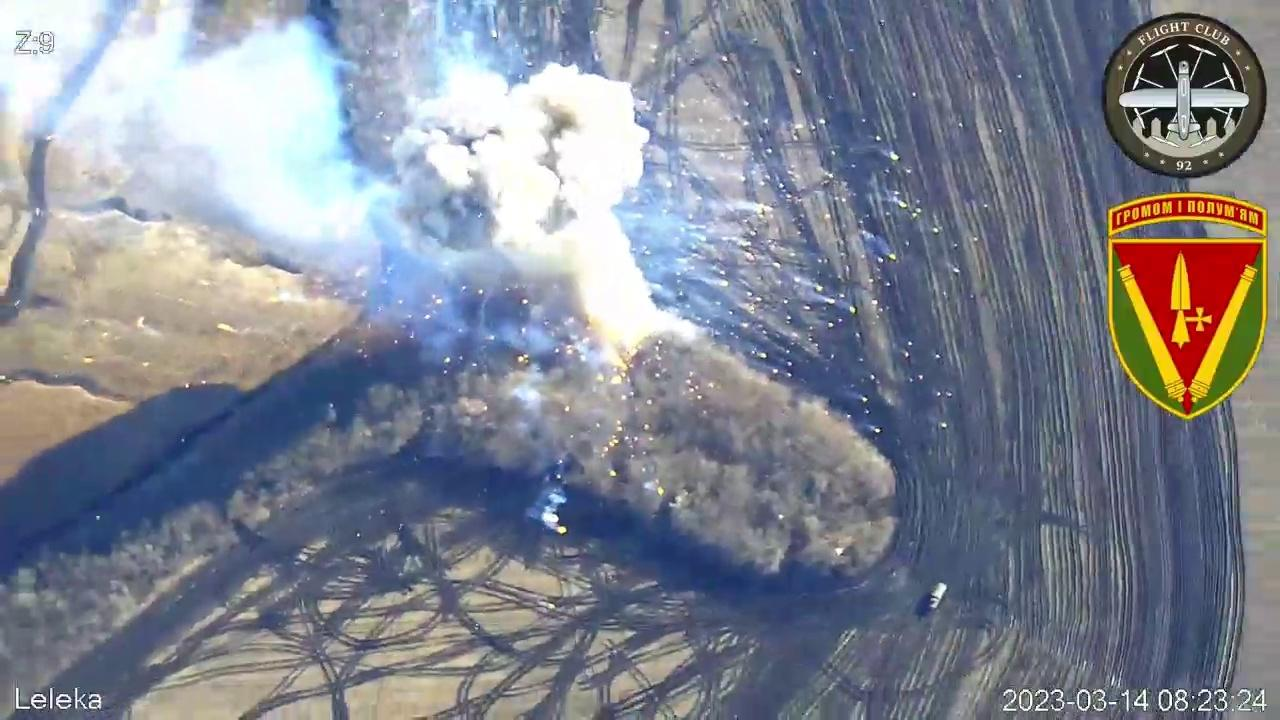vehicle: (926, 580, 948, 612)
